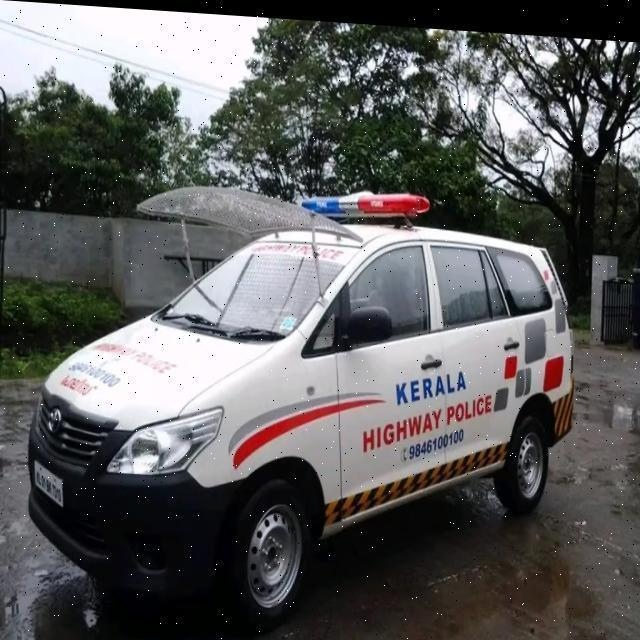Ambulance: (27, 186, 581, 621)
